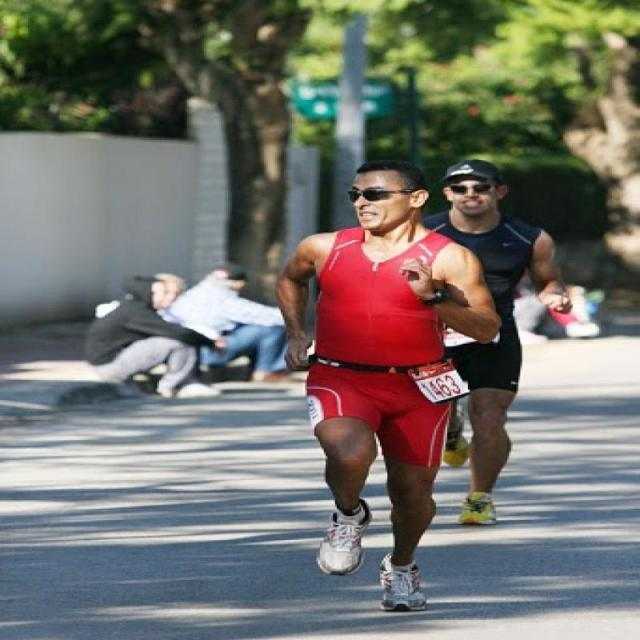dorsal: (403, 356, 478, 404)
